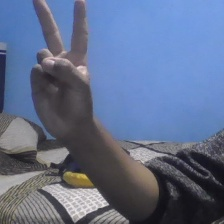V: (26, 1, 99, 140)
